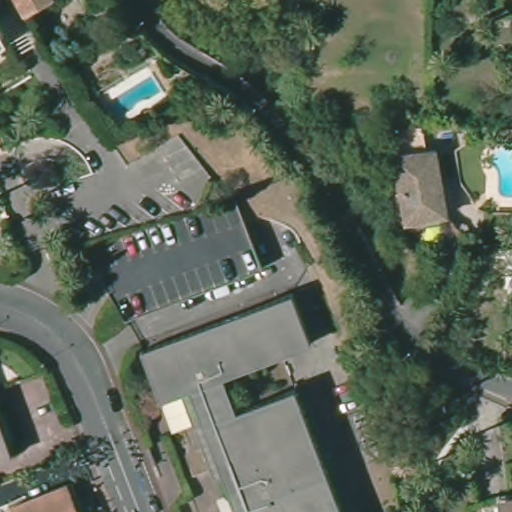pool: (106, 75, 165, 116), (484, 144, 512, 199)
